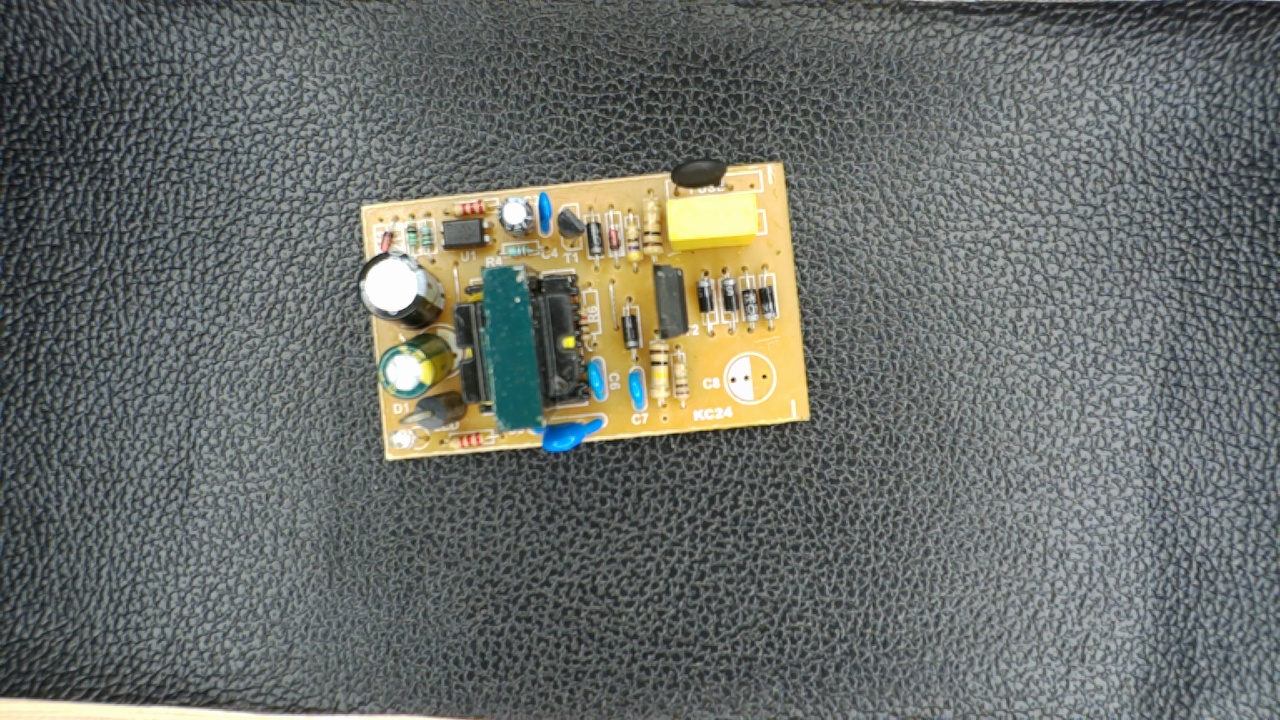fuse: (660, 156, 747, 197)
mov: (516, 411, 611, 455)
optocoupler: (434, 216, 497, 255)
